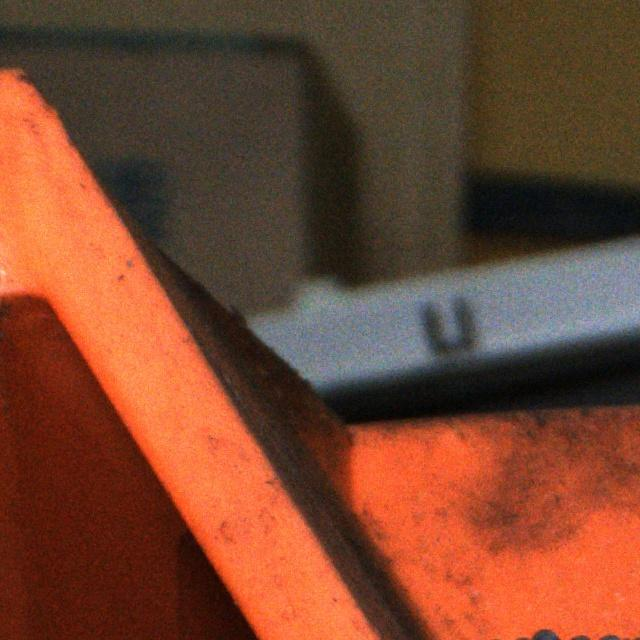tool: (530, 627, 560, 640), (564, 634, 594, 640), (597, 634, 625, 640)
